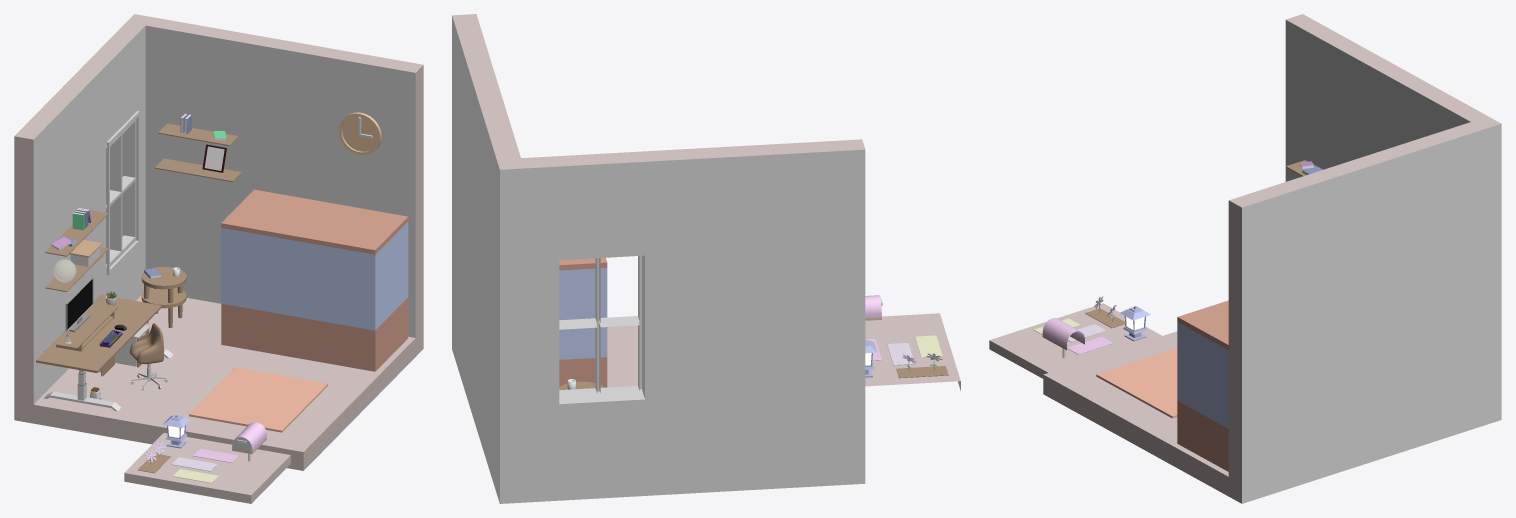
3 renders of one model, left to right at view 1: azimuth 30°, elevation 25°; view 2: azimuth 150°, elevation 25°; view 3: azimuth 270°, elevation 25°, orthographic. The views are drawn at different scales.
Parts seen in each view (by area): view 1: Room, Stands, Glass, OutpostBase, Table Top.001, Window.001_Plane.008, Table Top, Clock, Console, Seat, Holder4, Holder2 (+10 smaller); view 2: Room, OutpostBase, Glass, Window.001_Plane.008, Stands; view 3: Room, OutpostBase, Glass, Stands, Table Top.001, Mailbox.
Part boxes in pixels (box(x1,y1,x2,y2)): Room: box(14, 14, 423, 470); Stands: box(221, 189, 408, 371); Glass: box(221, 222, 408, 330); OutpostBase: box(124, 433, 290, 503); Table Top.001: box(189, 367, 327, 432); Window.001_Plane.008: box(106, 111, 139, 274); Table Top: box(36, 294, 161, 372); Clock: box(338, 112, 381, 155); Console: box(52, 302, 118, 351); Seat: box(130, 323, 163, 364); Holder4: box(155, 158, 241, 182); Holder2: box(45, 210, 108, 256); Room: box(452, 14, 865, 503); OutpostBase: box(865, 313, 960, 390); Glass: box(559, 268, 607, 359); Window.001_Plane.008: box(559, 255, 641, 396); Stands: box(559, 257, 607, 387); Room: box(1043, 14, 1501, 503); OutpostBase: box(989, 303, 1161, 378); Glass: box(1177, 322, 1228, 428); Stands: box(1177, 300, 1228, 471); Table Top.001: box(1096, 348, 1177, 418); Mailbox: box(1042, 318, 1084, 350).
Size of the model in its own units: 27.64 by 19.71 by 30.89.
